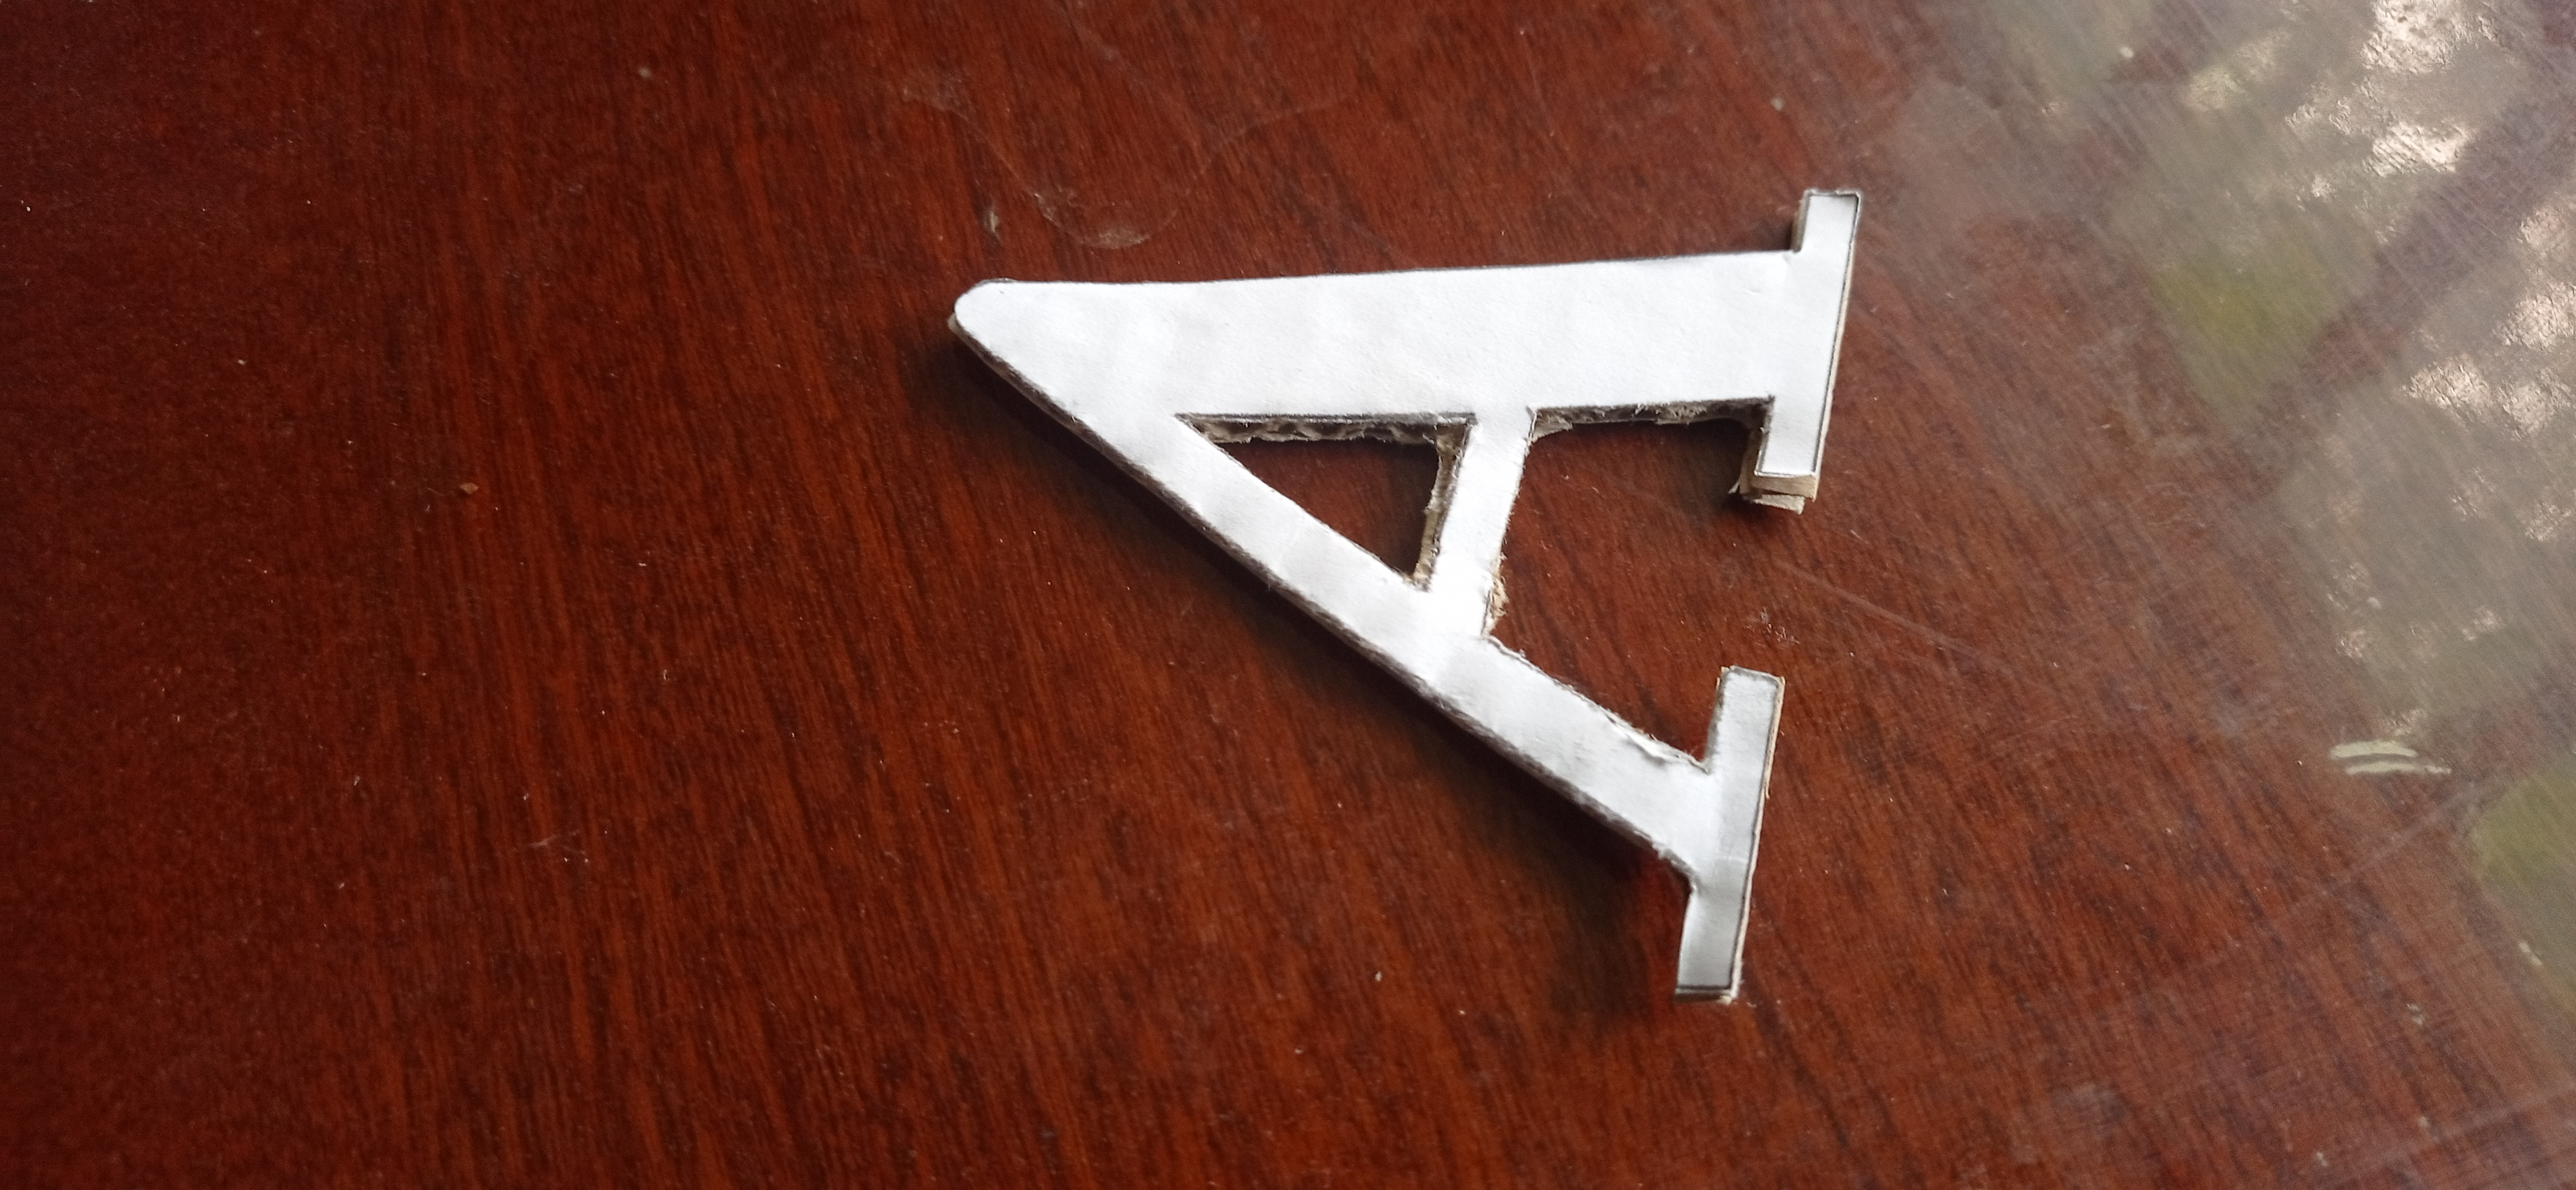a: (941, 186, 1860, 1006)
